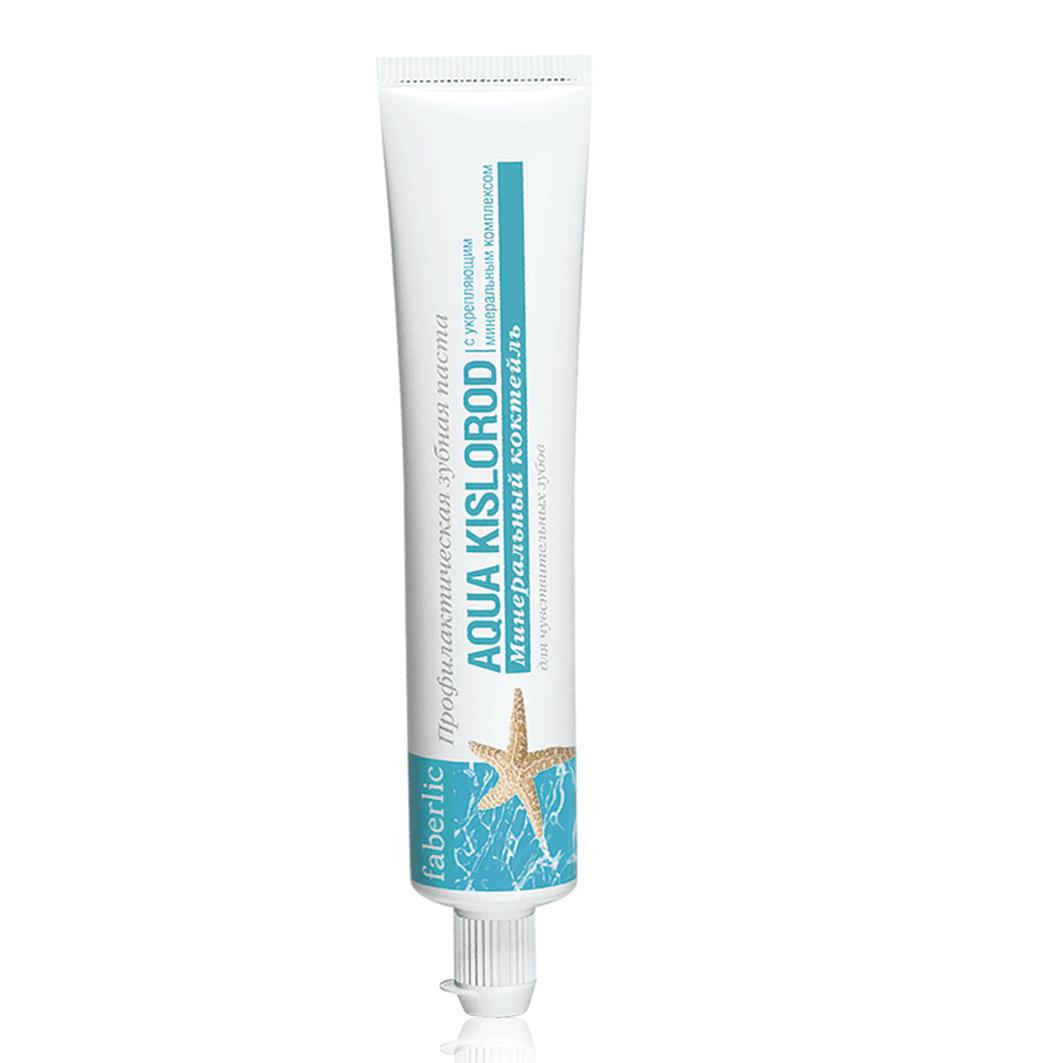toothpaste: (346, 41, 645, 1048)
